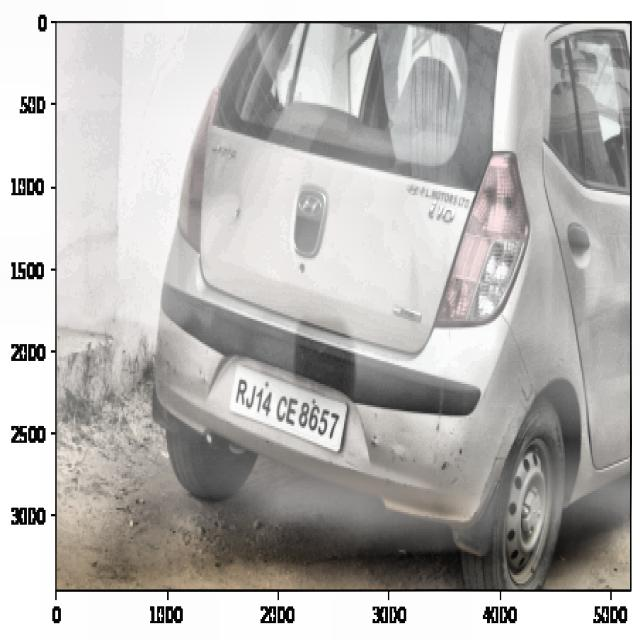license_plate: (231, 374, 342, 445)
